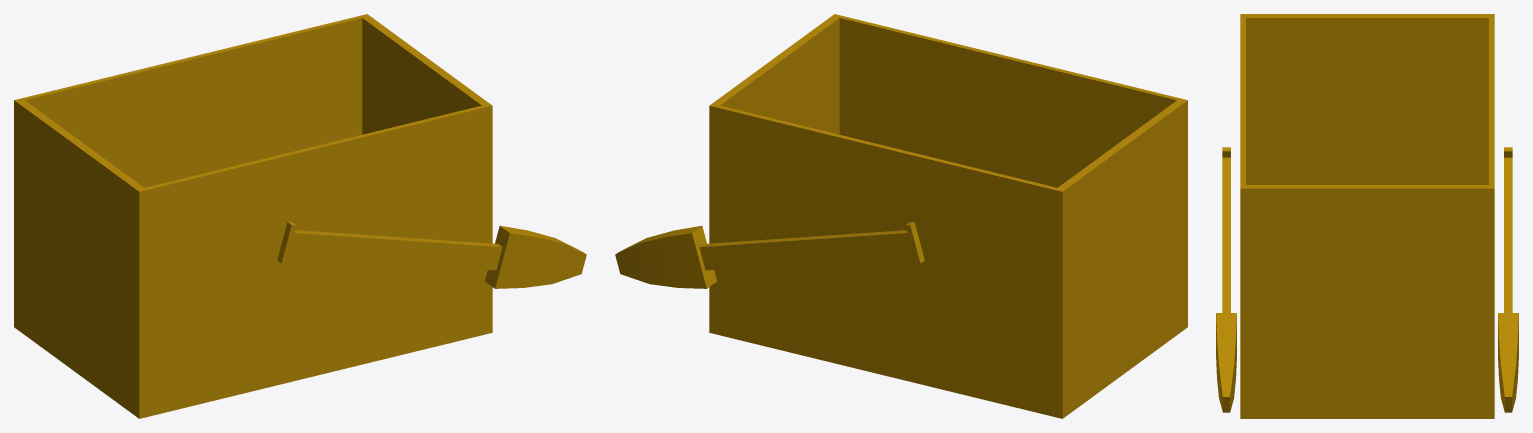
The model's file is boat2.fbx.
3 views of the same model, side by side, from view 1: azimuth 30°, elevation 25°; view 2: azimuth 150°, elevation 25°; view 3: azimuth 270°, elevation 25° (orthographic).
Visible parts, largest first — view 1: Boat2; view 2: Boat2; view 3: Boat2.
Boxes of the visible parts, x1,y1,x2,y2 form: Boat2: (14,14,586,418); Boat2: (615,14,1187,418); Boat2: (1216,14,1518,418).
Bounding box in the file's own units: 404 × 200 × 238.
